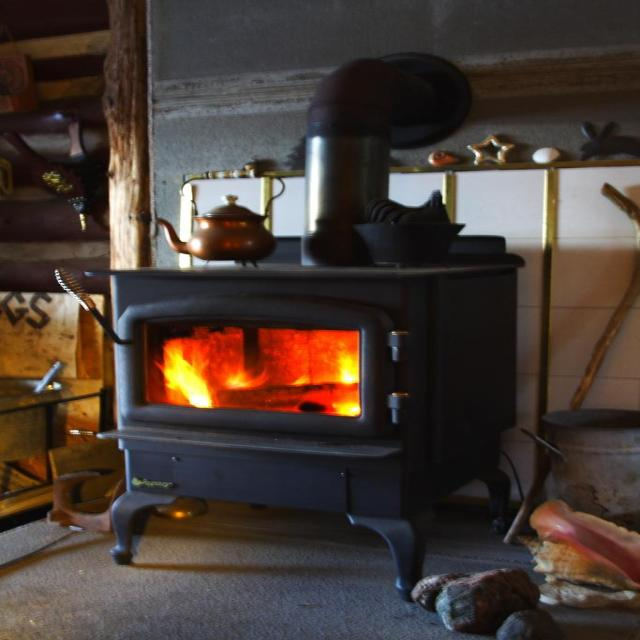Fire: (150, 320, 359, 418)
